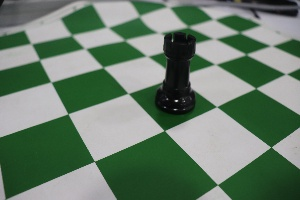black_rook: (146, 20, 201, 118)
